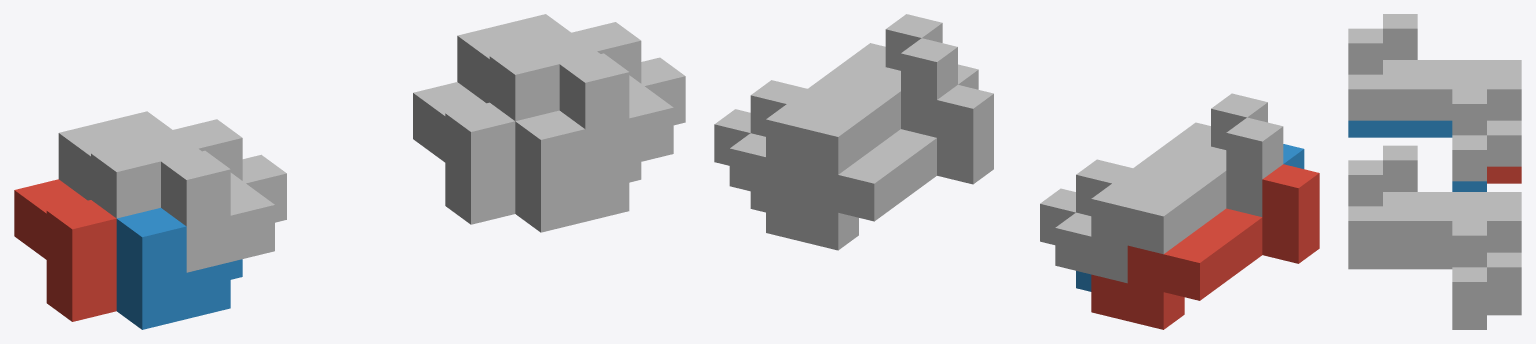
The model's file is tiling.obj.
3 renders of one model, left to right at view 1: azimuth 30°, elevation 25°; view 2: azimuth 150°, elevation 25°; view 3: azimuth 270°, elevation 25°, orthographic. The views are drawn at different scales.
Visible parts, largest first — view 1: copy_1_domain_8, copy_1_domain_4, copy_1_domain_5, copy_1_domain_1, copy_1_domain_2, copy_1_domain_6, copy_1_domain_3, copy_1_domain_7; view 2: copy_1_domain_3, copy_1_domain_7, copy_1_domain_1, copy_1_domain_5, copy_1_domain_8, copy_1_domain_4, copy_1_domain_2, copy_1_domain_6; view 3: copy_1_domain_4, copy_1_domain_8, copy_1_domain_7, copy_1_domain_3, copy_1_domain_6, copy_1_domain_2, copy_1_domain_1, copy_1_domain_5.
Boxes of the visible parts, x1,y1,x2,y2 form: copy_1_domain_8: (527, 22, 685, 175); copy_1_domain_4: (129, 119, 286, 272); copy_1_domain_5: (413, 82, 515, 224); copy_1_domain_1: (14, 179, 116, 321); copy_1_domain_2: (116, 208, 242, 329); copy_1_domain_6: (515, 110, 641, 232); copy_1_domain_3: (58, 111, 172, 218); copy_1_domain_7: (457, 14, 570, 121); copy_1_domain_3: (1055, 117, 1283, 283); copy_1_domain_7: (729, 38, 957, 203); copy_1_domain_1: (1091, 164, 1319, 329); copy_1_domain_5: (766, 85, 993, 250); copy_1_domain_8: (714, 14, 942, 165); copy_1_domain_4: (1040, 93, 1267, 244); copy_1_domain_2: (1076, 144, 1304, 291); copy_1_domain_6: (750, 64, 978, 212); copy_1_domain_4: (1348, 28, 1486, 181); copy_1_domain_8: (1348, 160, 1486, 313); copy_1_domain_7: (1383, 145, 1521, 298); copy_1_domain_3: (1383, 14, 1521, 166); copy_1_domain_6: (1348, 252, 1486, 329); copy_1_domain_2: (1348, 120, 1486, 191); copy_1_domain_1: (1487, 166, 1521, 183); copy_1_domain_5: (1487, 298, 1521, 315).
Size of the model in its own units: 15 by 4 by 5.
